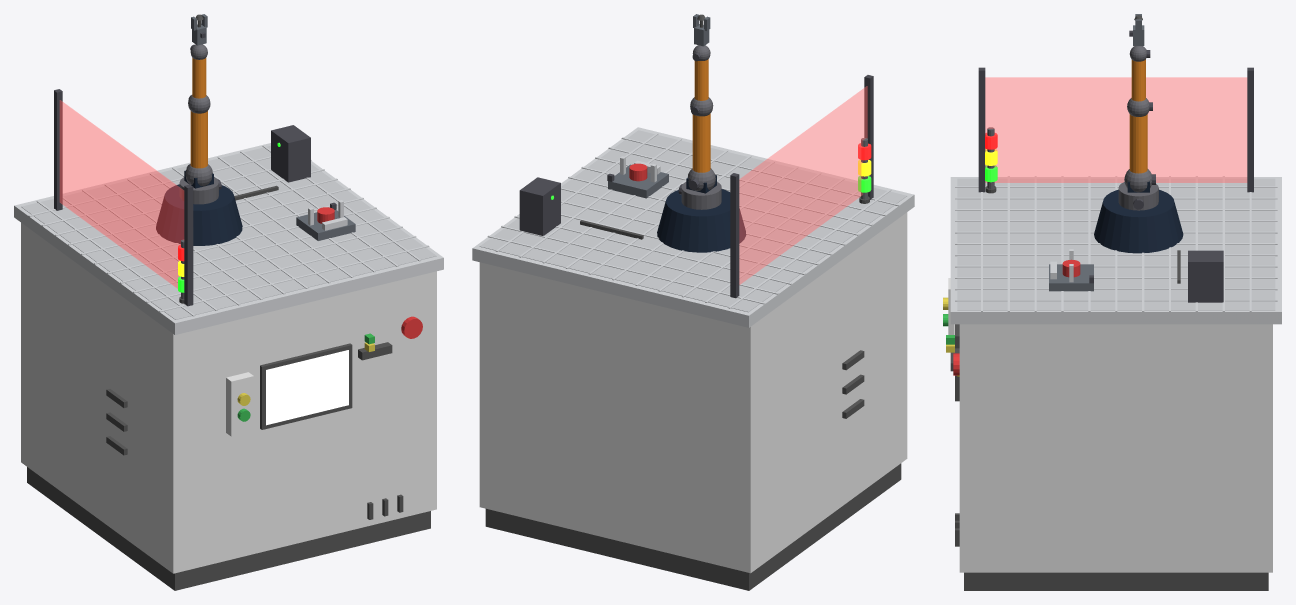
3 renders of one model, left to right at view 1: azimuth 30°, elevation 25°; view 2: azimuth 150°, elevation 25°; view 3: azimuth 270°, elevation 25°, orthographic. The views are drawn at different scales.
Visible parts, largest first — view 1: Cabinet.001, Plate_Center.001, ST100_safety_light, Plate_Trim.001, Skirt.001, HMI_Screen.001, ST100_Pedestal, ST100_Controller, HMI_Border.001, Btn_Box.001, ST100_Curtain_Post_A, ST100_Curtain_Post_B (+6 smaller); view 2: Cabinet.001, Plate_Center.001, ST100_safety_light, Plate_Trim.001, Skirt.001, ST100_Pedestal, ST100_Controller, ST100_Curtain_Post_B, ST100_UpperArm, ST100_fixture, ST100_Curtain_Post_A, ST100_joint1 (+3 smaller); view 3: Cabinet.001, Plate_Center.001, ST100_safety_light, Plate_Trim.001, Skirt.001, ST100_Pedestal, ST100_Controller, ST100_UpperArm, ST100_Curtain_Post_A, ST100_fixture, ST100_Curtain_Post_B, ST100_joint1 (+13 smaller).
Boxes of the visible parts, <box> form: Cabinet.001: <box>21,223,436,573</box>; Plate_Center.001: <box>21,145,436,319</box>; ST100_safety_light: <box>60,100,183,288</box>; Plate_Trim.001: <box>14,143,443,334</box>; Skirt.001: <box>27,467,430,590</box>; HMI_Screen.001: <box>266,350,348,425</box>; ST100_Pedestal: <box>156,184,242,245</box>; ST100_Controller: <box>271,125,310,182</box>; HMI_Border.001: <box>260,343,352,429</box>; Btn_Box.001: <box>226,372,253,436</box>; ST100_Curtain_Post_A: <box>184,184,193,306</box>; ST100_Curtain_Post_B: <box>54,89,62,210</box>; Cabinet.001: <box>479,212,907,573</box>; Plate_Center.001: <box>479,130,906,312</box>; ST100_safety_light: <box>739,86,867,284</box>; Plate_Trim.001: <box>472,127,914,327</box>; Skirt.001: <box>485,463,901,590</box>; ST100_Pedestal: <box>657,189,746,252</box>; ST100_Controller: <box>519,177,560,235</box>; ST100_Curtain_Post_B: <box>730,173,739,298</box>; ST100_UpperArm: <box>692,113,710,172</box>; ST100_fixture: <box>608,164,668,198</box>; ST100_Curtain_Post_A: <box>864,75,873,199</box>; ST100_joint1: <box>681,182,721,209</box>; Cabinet.001: <box>959,324,1272,572</box>; Plate_Center.001: <box>957,178,1275,310</box>; ST100_safety_light: <box>985,77,1246,182</box>; Plate_Trim.001: <box>950,177,1281,324</box>; Skirt.001: <box>964,572,1268,590</box>; ST100_Pedestal: <box>1094,189,1183,253</box>; ST100_Controller: <box>1188,250,1223,302</box>; ST100_UpperArm: <box>1129,114,1147,173</box>; ST100_Curtain_Post_A: <box>978,67,985,192</box>; ST100_fixture: <box>1049,264,1093,291</box>; ST100_Curtain_Post_B: <box>1247,67,1253,192</box>; ST100_joint1: <box>1118,182,1158,210</box>.
Size of the model in its own units: 0.717 by 1.23 by 0.757.
